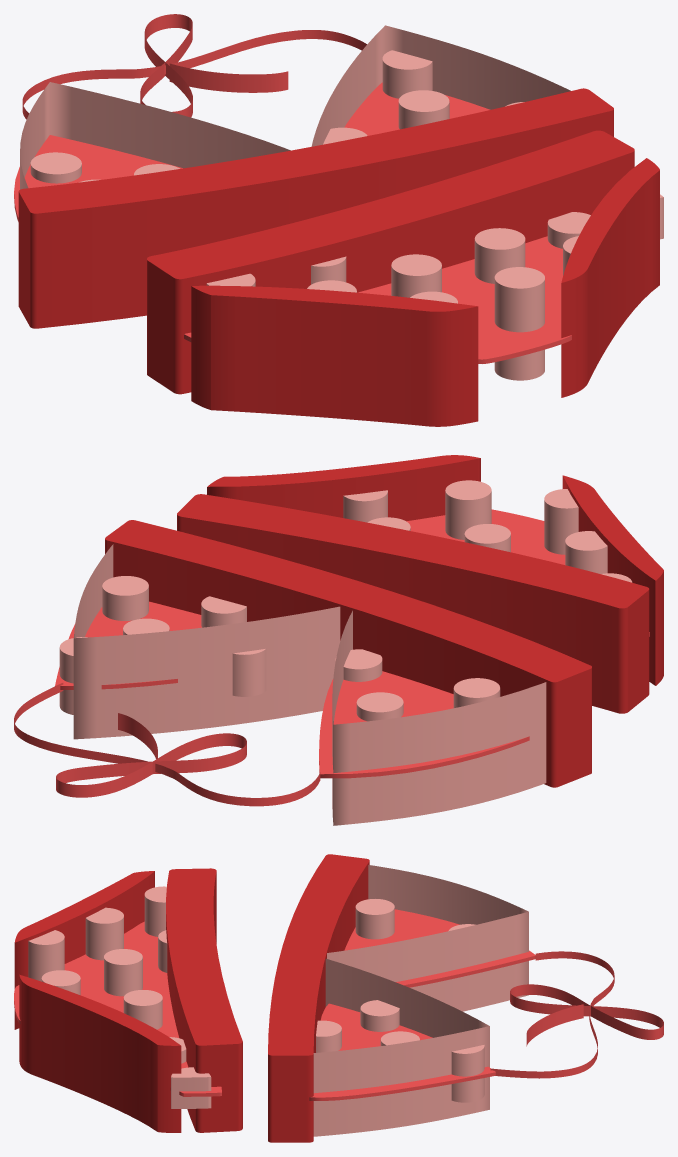
Rendered from emoji_u1f459.glb.
3 views of the same model, one above another, from view 1: azimuth 30°, elevation 25°; view 2: azimuth 150°, elevation 25°; view 3: azimuth 270°, elevation 25° (orthographic). The views are drawn at different scales.
Parts seen in each view (by area): view 1: emoji_u1f459; view 2: emoji_u1f459; view 3: emoji_u1f459.
Boxes of the visible parts, x1,y1,x2,y2 form: emoji_u1f459: (14, 14, 663, 426); emoji_u1f459: (14, 455, 663, 825); emoji_u1f459: (14, 854, 663, 1142).
Bounding box in the file's own units: 0.0248 × 0.005 × 0.0338.
